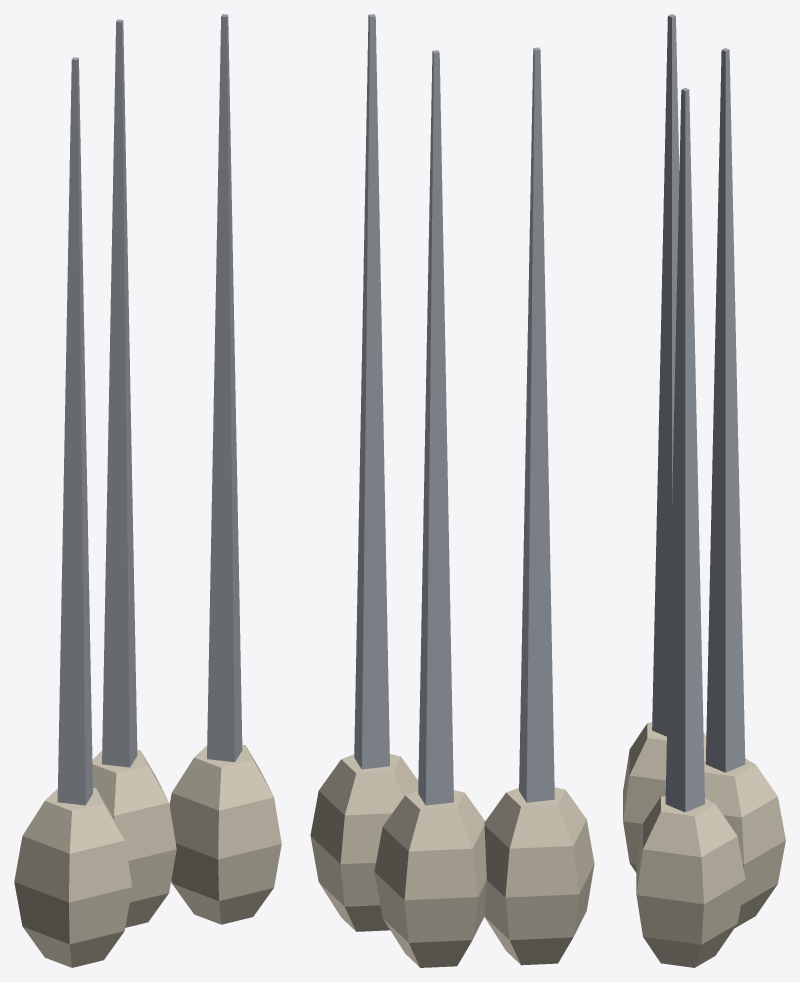
Rendered from g-needle.glb.
3 views of the same model, side by side, from view 1: azimuth 30°, elevation 25°; view 2: azimuth 150°, elevation 25°; view 3: azimuth 270°, elevation 25° (orthographic). The views are drawn at different scales.
Visible parts, largest first — view 1: g-needle; view 2: g-needle; view 3: g-needle.
Part boxes in pixels (left/top/right/bottom): g-needle: left=14, top=14, right=281, bottom=967; g-needle: left=310, top=14, right=594, bottom=967; g-needle: left=623, top=14, right=785, bottom=967.
Size of the model in its own units: 0.0431 by 0.1425 by 0.0243.
